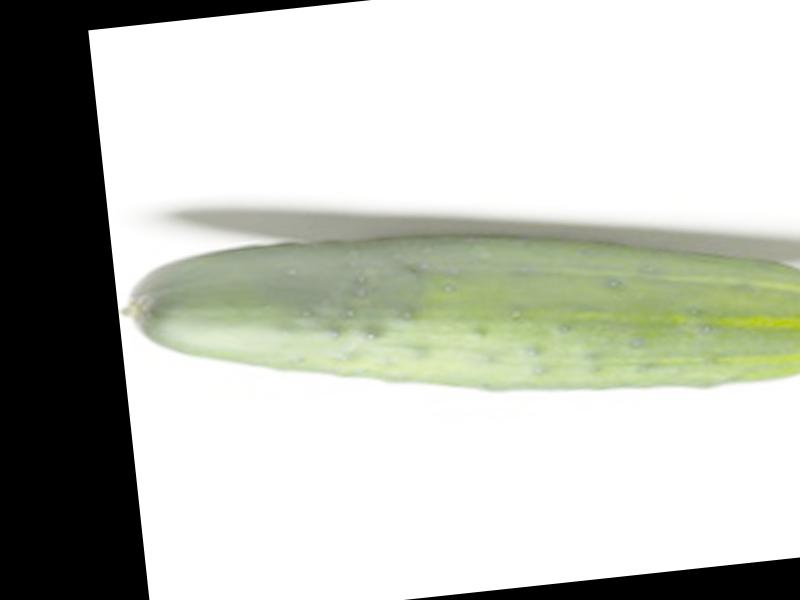Cucumber: (115, 176, 800, 450)
